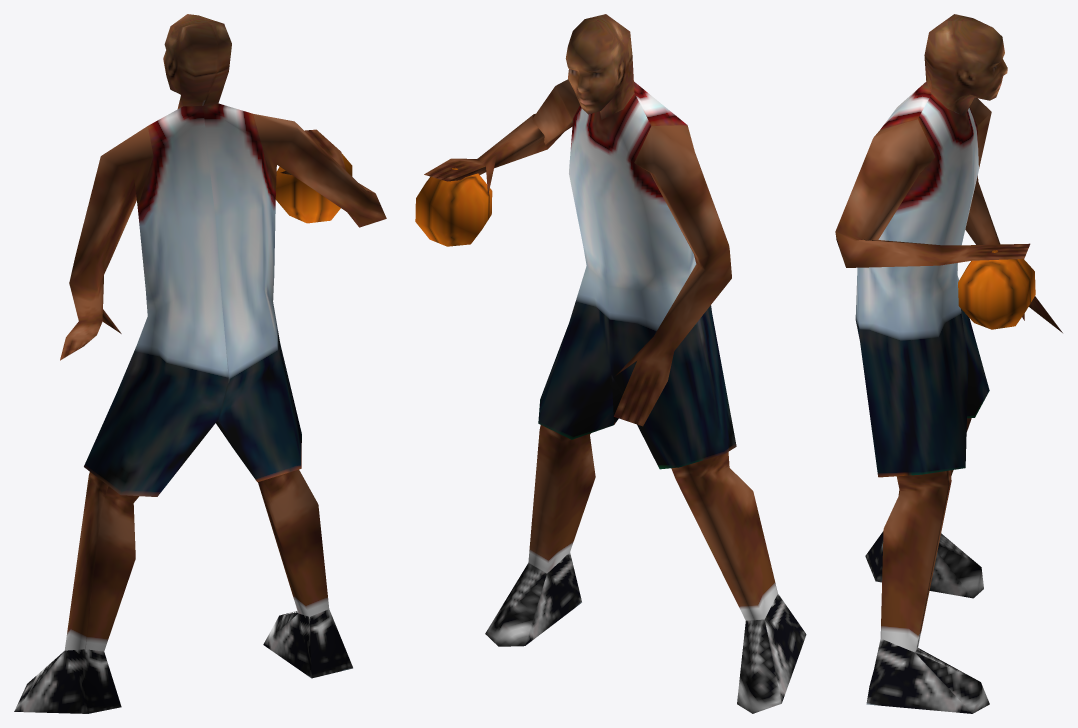
File: icon.ico.obj
3 renders of one model, left to right at view 1: azimuth 30°, elevation 25°; view 2: azimuth 150°, elevation 25°; view 3: azimuth 270°, elevation 25°, orthographic.
Bounding box in the file's own units: 2.74 × 4.9 × 1.56.
1 material, 1 textured.
